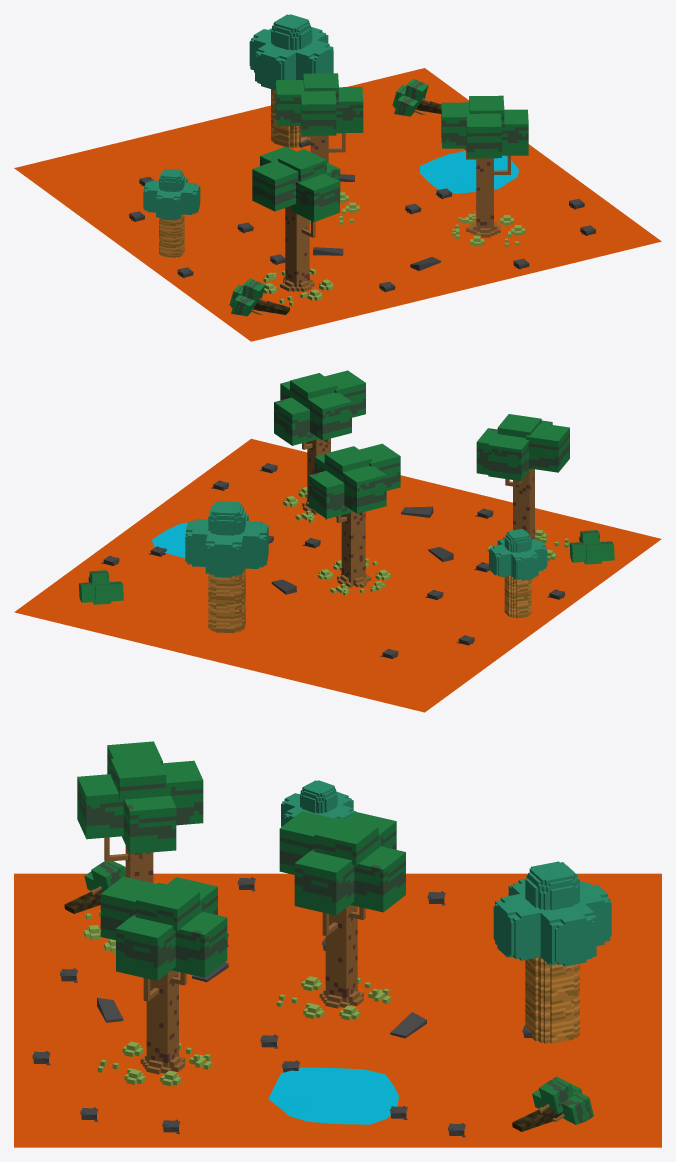
The model's file is center.gltf.
3 views of the same model, one above another, from view 1: azimuth 30°, elevation 25°; view 2: azimuth 150°, elevation 25°; view 3: azimuth 270°, elevation 25° (orthographic). The views are drawn at different scales.
Parts seen in each view (by area): view 1: C, TREE 02.001, TREE 02.009, TREE 02.006, Object_3.001, Object_3.006, pond, Trunt_top.001, Trunt_top.005; view 2: C, TREE 02.006, Object_3.001, TREE 02.009, TREE 02.001, Object_3.006, Trunt_top.005, Trunt_top.001, pond; view 3: C, TREE 02.009, TREE 02.006, Object_3.001, TREE 02.001, pond, Trunt_top.005, Object_3.006, Trunt_top.001.
Boxes of the visible parts, x1,y1,x2,y2 form: C: (14,68,661,341); TREE 02.001: (252,146,340,305); TREE 02.009: (441,95,528,247); TREE 02.006: (275,73,363,224); Object_3.001: (249,14,333,147); Object_3.006: (143,169,200,257); pond: (420,151,518,193); Trunt_top.001: (229,278,289,316); Trunt_top.005: (392,78,441,116); C: (14,438,661,712); TREE 02.006: (308,443,400,595); Object_3.001: (185,501,268,633); TREE 02.009: (274,370,365,522); TREE 02.001: (476,414,569,560); Object_3.006: (489,529,547,618); Trunt_top.005: (79,570,123,604); Trunt_top.001: (569,530,614,564); pond: (152,522,187,558); C: (14,873,661,1147); TREE 02.009: (97,876,227,1086); TREE 02.006: (276,811,405,1020); Object_3.001: (493,861,611,1043); TREE 02.001: (77,741,203,952); pond: (268,1067,398,1124); Trunt_top.005: (512,1076,593,1131); Object_3.006: (281,780,356,826); Trunt_top.001: (64,861,125,913).
Bounding box in the file's own units: 221 × 72.51 × 221.
Materials: 10 (5 with a texture image).
